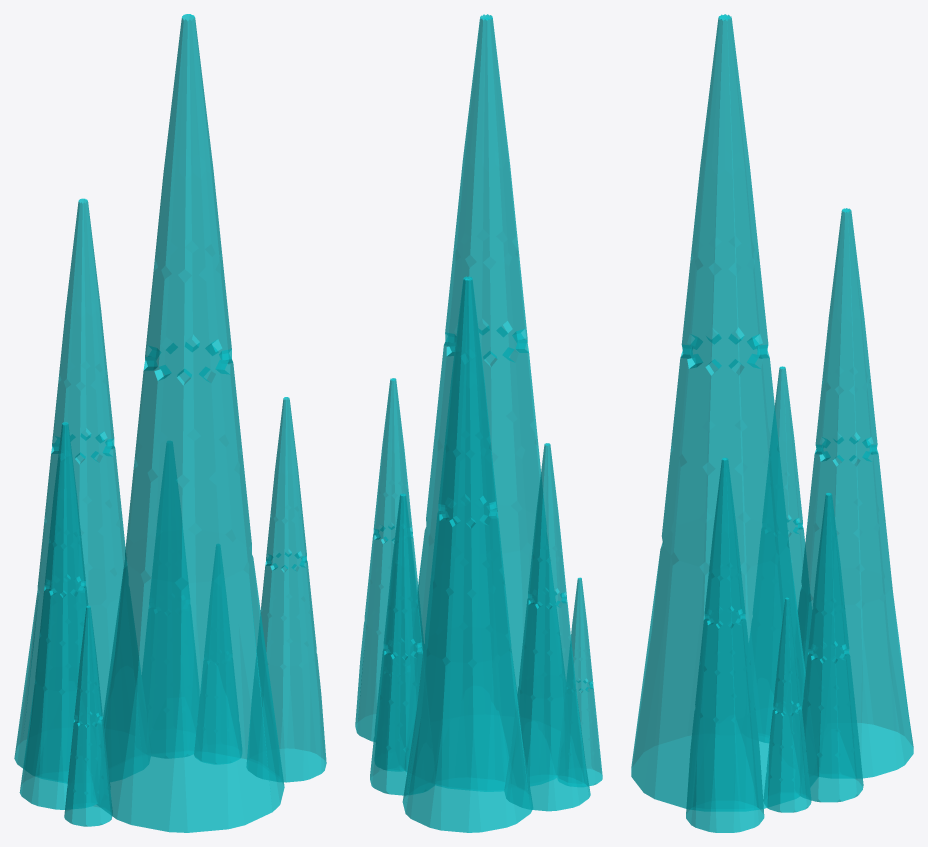
File: IceGroup.fbx
3 renders of one model, left to right at view 1: azimuth 30°, elevation 25°; view 2: azimuth 150°, elevation 25°; view 3: azimuth 270°, elevation 25°, orthographic. The views are drawn at different scales.
Visible parts, largest first — view 1: Cylinder.001, Cylinder.005, Cylinder.002, Cylinder.004, Cylinder.007, Cylinder.006, Cylinder.003; view 2: Cylinder.005, Cylinder.001, Cylinder.004, Cylinder.003, Cylinder.002, Cylinder.007; view 3: Cylinder.001, Cylinder.005, Cylinder.002, Cylinder.003, Cylinder.006, Cylinder.004.
Boxes of the visible parts, x1=… form: Cylinder.001: x1=99, y1=14, x2=284, y2=832; Cylinder.005: x1=14, y1=198, x2=150, y2=782; Cylinder.002: x1=246, y1=397, x2=326, y2=782; Cylinder.004: x1=19, y1=422, x2=110, y2=809; Cylinder.007: x1=64, y1=605, x2=112, y2=826; Cylinder.006: x1=194, y1=661, x2=240, y2=763; Cylinder.003: x1=149, y1=696, x2=195, y2=758; Cylinder.005: x1=402, y1=276, x2=532, y2=832; Cylinder.001: x1=404, y1=14, x2=555, y2=790; Cylinder.004: x1=504, y1=443, x2=590, y2=811; Cylinder.003: x1=370, y1=493, x2=435, y2=795; Cylinder.002: x1=355, y1=378, x2=417, y2=741; Cylinder.007: x1=558, y1=577, x2=602, y2=786; Cylinder.001: x1=631, y1=14, x2=817, y2=808; Cylinder.005: x1=797, y1=208, x2=913, y2=778; Cylinder.002: x1=686, y1=457, x2=764, y2=832; Cylinder.003: x1=799, y1=493, x2=863, y2=802; Cylinder.006: x1=763, y1=597, x2=811, y2=812; Cylinder.004: x1=753, y1=366, x2=808, y2=742.
Bounding box in the file's own units: 300 × 841 × 285.
